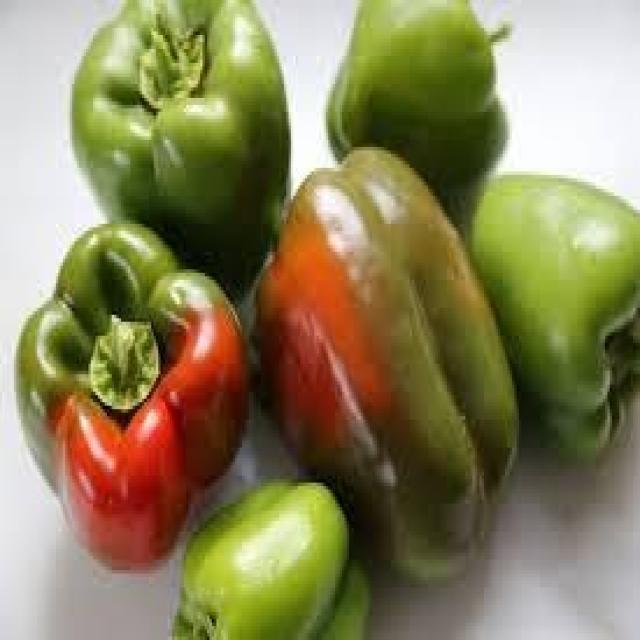bell_pepper: (232, 133, 535, 598), (10, 200, 244, 595), (60, 1, 308, 304), (467, 154, 639, 480), (320, 1, 529, 215), (162, 469, 374, 637)
